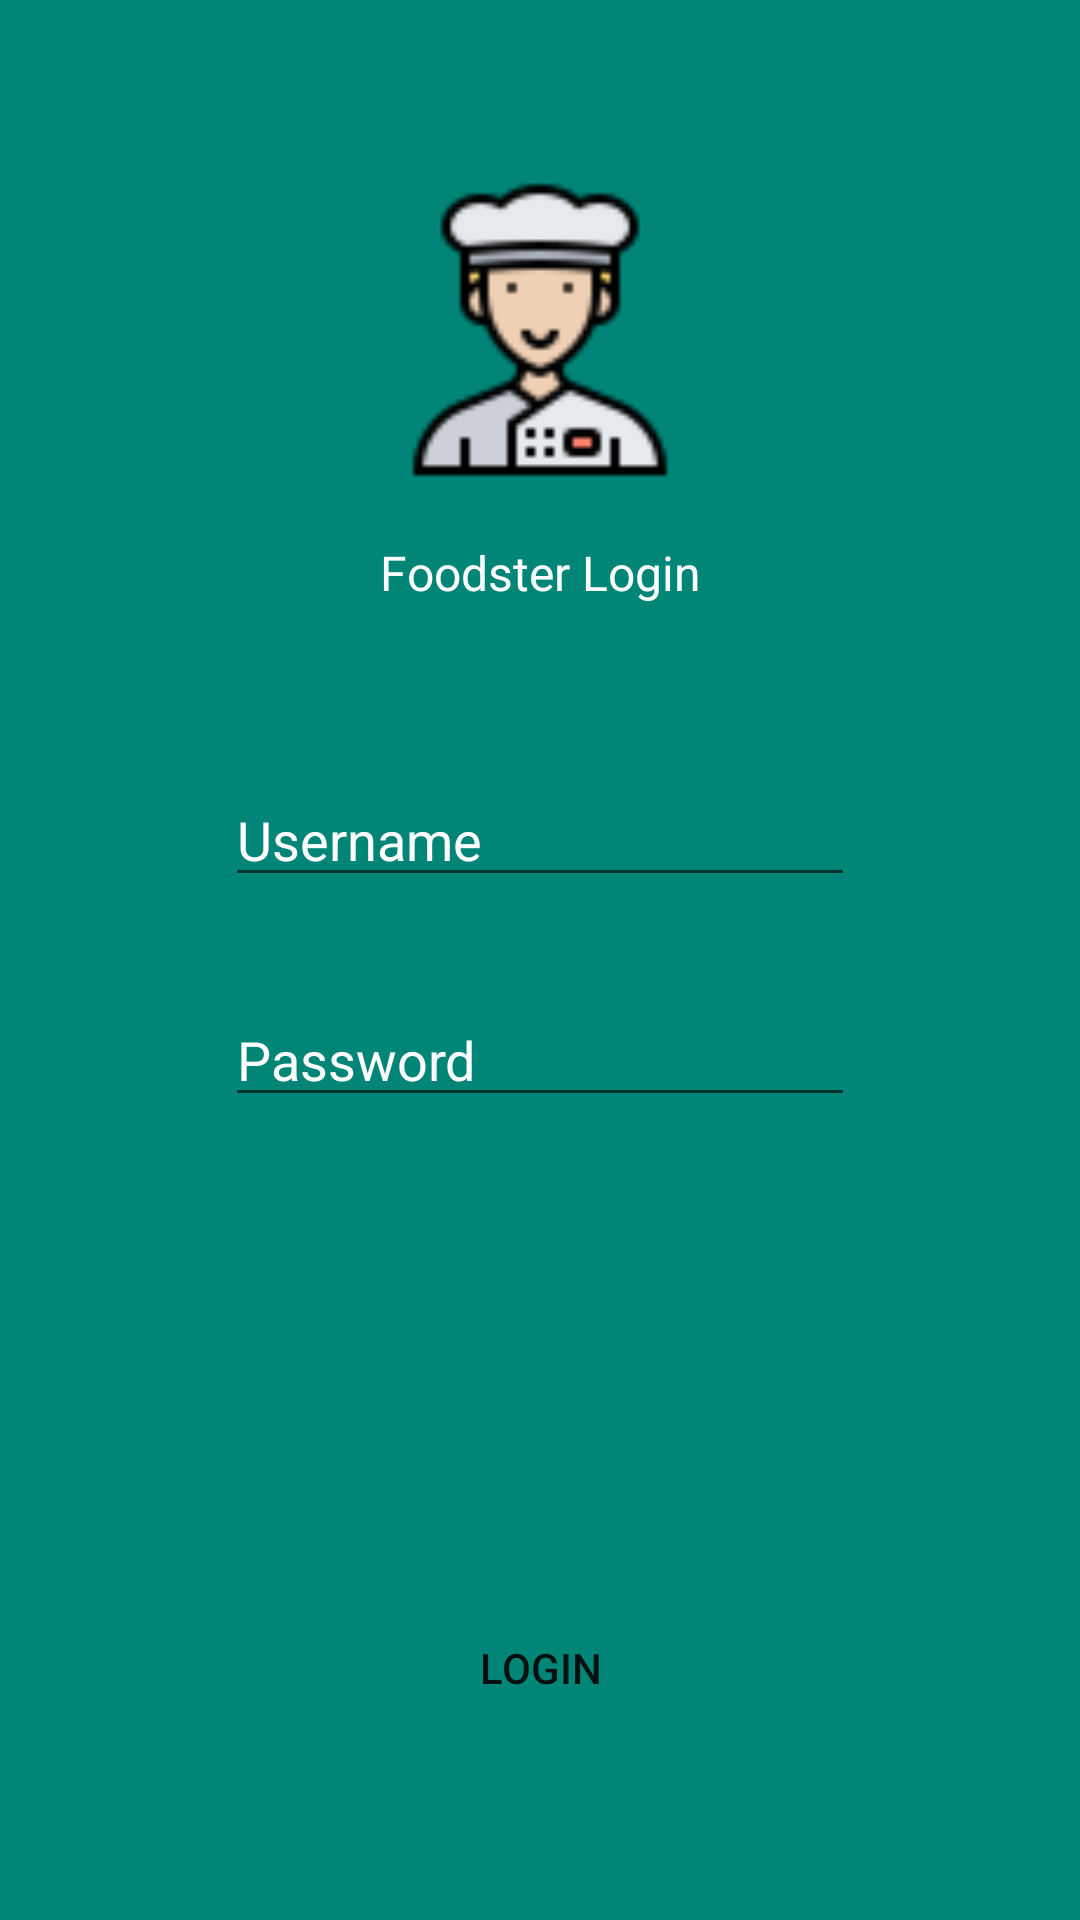

Icons on this 1080x1920 Android screen, each with the point to tap as point (x, y):
chef: point (540, 330)
